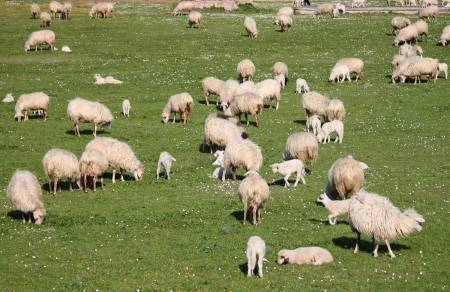sheep: (83, 137, 147, 189), (4, 162, 47, 228), (64, 95, 117, 137), (274, 236, 330, 274), (236, 165, 272, 222), (222, 138, 269, 177), (40, 148, 81, 192), (240, 232, 272, 281), (11, 89, 52, 127), (158, 89, 196, 127), (223, 93, 268, 121), (283, 130, 322, 162), (398, 58, 438, 87), (269, 159, 310, 187), (22, 27, 57, 58), (151, 146, 180, 182), (314, 120, 348, 147), (300, 89, 329, 120), (91, 71, 125, 90), (392, 25, 421, 47), (326, 65, 353, 87), (86, 2, 114, 21), (242, 16, 261, 41), (275, 14, 295, 33), (436, 24, 450, 51), (186, 11, 204, 31), (418, 4, 441, 19), (171, 1, 195, 15), (38, 9, 54, 28), (121, 98, 135, 118), (28, 2, 41, 18)
